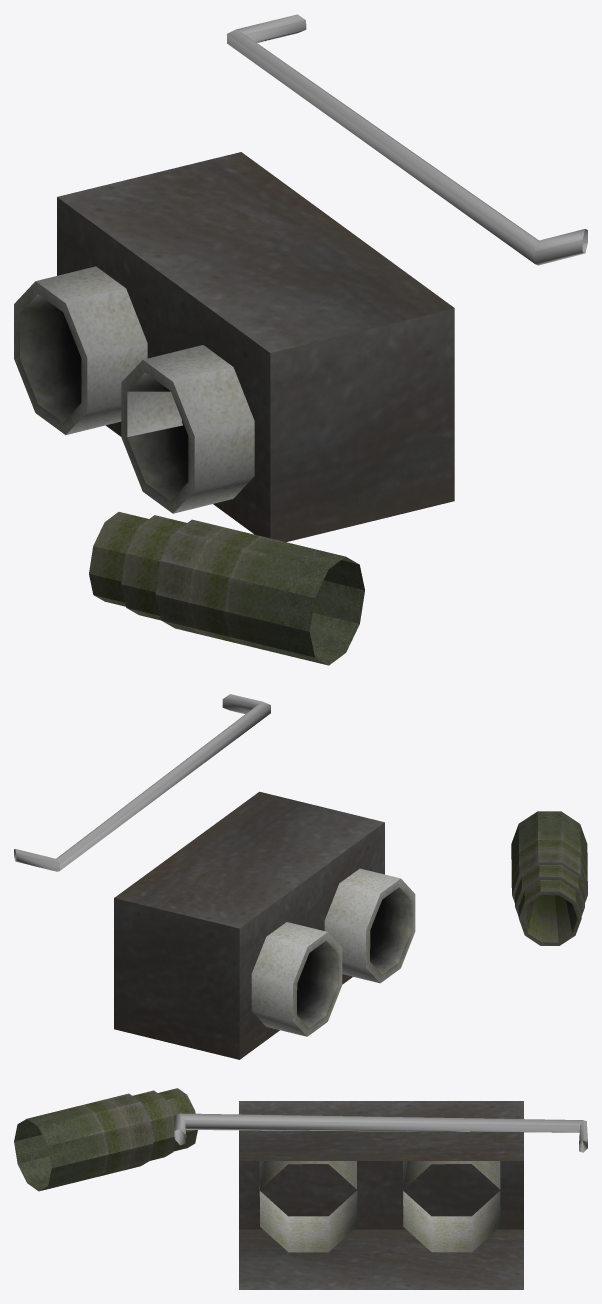
File: encanacao_mod.fbx
The picture shows the model from 3 angles, top to bottom: view 1: azimuth 30°, elevation 25°; view 2: azimuth 150°, elevation 25°; view 3: azimuth 270°, elevation 25°; orthographic projection. The views are drawn at different scales.
Visible parts, largest first — view 1: boca de esgoto, encanação-lodo, cano branco; view 2: boca de esgoto, encanação-lodo, cano branco; view 3: boca de esgoto, encanação-lodo, cano branco.
Part boxes in pixels (box(x1,y1,x2,y2)): boca de esgoto: box(14, 152, 454, 542); encanação-lodo: box(89, 512, 364, 665); cano branco: box(226, 14, 587, 265); boca de esgoto: box(114, 791, 415, 1059); encanação-lodo: box(511, 811, 587, 945); cano branco: box(14, 694, 270, 871); boca de esgoto: box(239, 1101, 523, 1289); encanação-lodo: box(14, 1088, 197, 1191); cano branco: box(174, 1113, 587, 1152).
Bounding box in the file's own units: 570 × 294 × 807.
